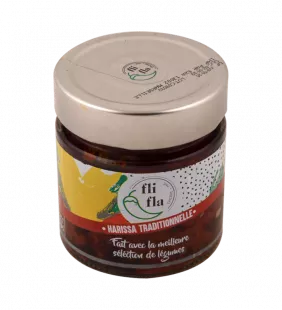FLIFLA: (43, 19, 237, 285)
